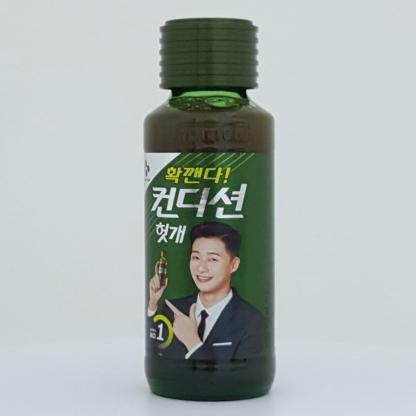CJ-----100ML: (143, 18, 275, 401)
